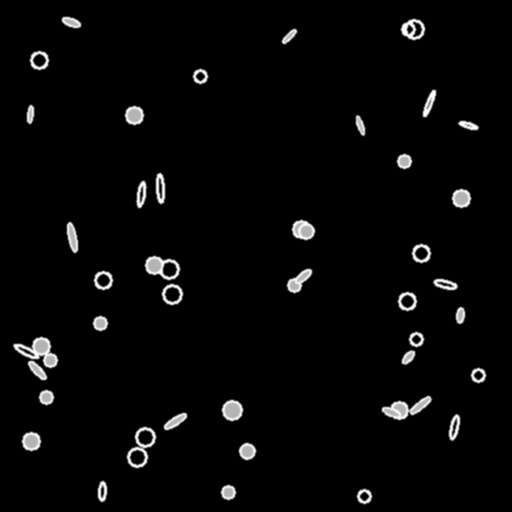pseudomonas: (13, 342, 39, 360), (27, 359, 47, 381), (409, 395, 431, 415), (163, 412, 187, 430), (422, 90, 436, 116), (66, 223, 78, 251), (294, 268, 312, 284), (433, 278, 457, 290), (281, 28, 297, 44), (381, 406, 401, 418), (136, 182, 146, 206), (61, 16, 81, 28), (449, 415, 459, 439), (156, 174, 164, 202), (401, 349, 415, 365), (355, 116, 365, 134), (459, 120, 477, 130), (98, 481, 106, 501), (456, 307, 464, 323), (26, 106, 34, 122)
synechocystis: (163, 285, 181, 303), (160, 260, 178, 278), (128, 448, 146, 466), (223, 401, 241, 419), (136, 428, 154, 446), (405, 20, 423, 38), (391, 402, 407, 418), (293, 221, 309, 237), (146, 257, 162, 273), (413, 245, 429, 261), (23, 433, 39, 449), (33, 338, 49, 354), (453, 190, 469, 206), (31, 52, 47, 68), (95, 272, 111, 288), (399, 293, 415, 309), (126, 107, 142, 123), (299, 224, 313, 238), (240, 444, 254, 458), (94, 317, 106, 329), (410, 333, 422, 345), (40, 391, 52, 403), (222, 486, 234, 498), (402, 23, 414, 35), (398, 155, 410, 167), (472, 369, 484, 381), (288, 279, 300, 291), (194, 70, 206, 82), (358, 490, 370, 502), (44, 354, 56, 366)
